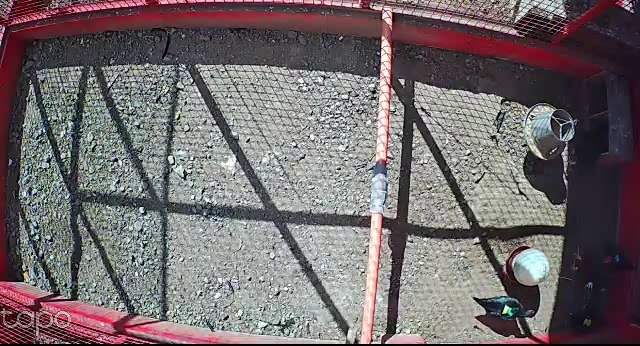Chicken: (472, 292, 537, 325)
Saddle_Color_YellowGreen: (502, 306, 517, 316)
